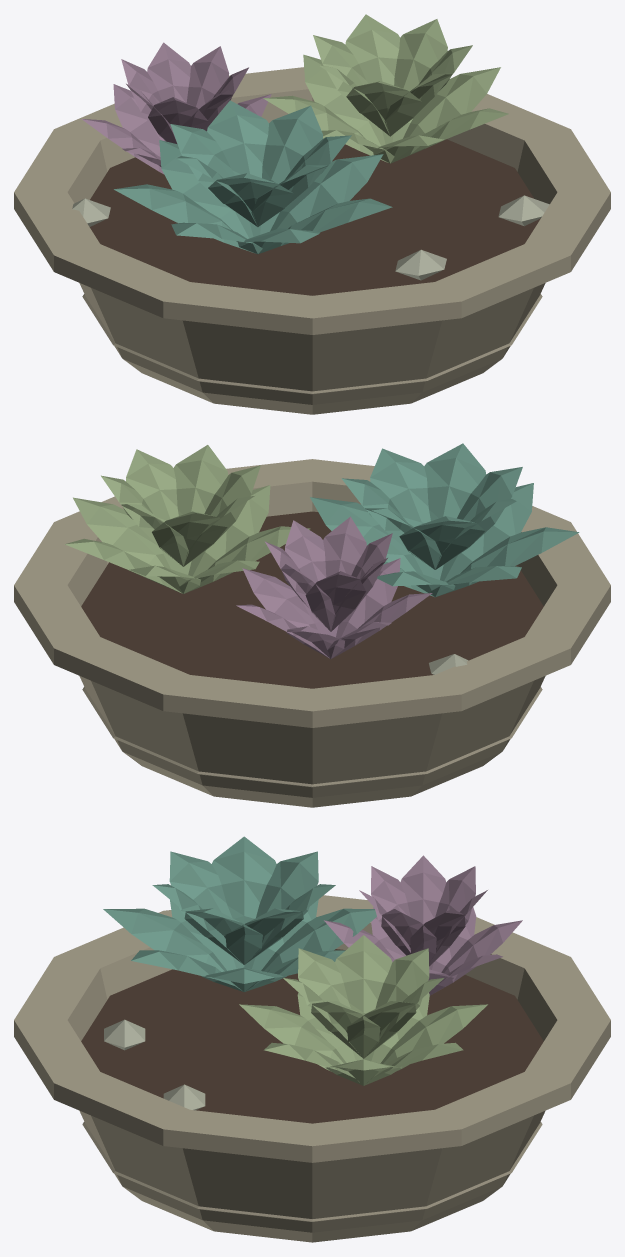
Rendered from decor_pot_succulent.glb.
3 renders of one model, top to bottom at view 1: azimuth 30°, elevation 25°; view 2: azimuth 150°, elevation 25°; view 3: azimuth 270°, elevation 25°, orthographic.
Parts seen in each view (by area): view 1: geometry; view 2: geometry; view 3: geometry.
Part boxes in pixels (x1,y1,x2,y2): geometry: (14, 14, 610, 414); geometry: (14, 443, 610, 807); geometry: (14, 836, 610, 1242).
Size of the model in its own units: 0.6996 by 0.31 by 0.6996.
